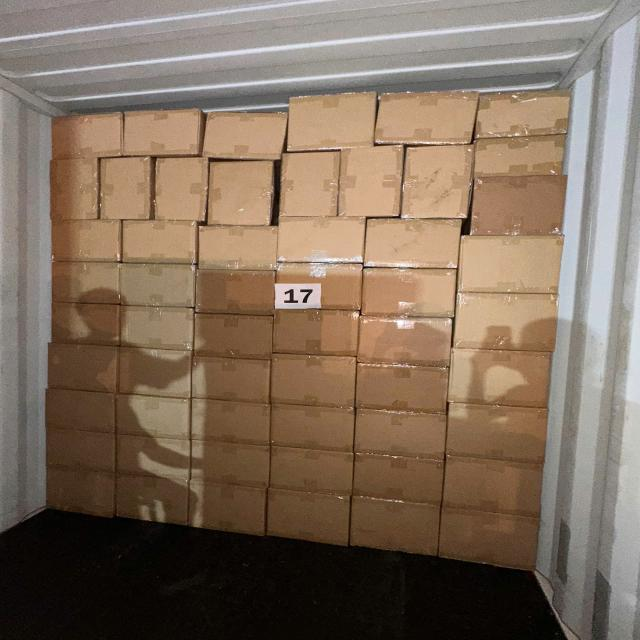Carton: (473, 134, 571, 233), (354, 480, 445, 564), (437, 503, 544, 574), (190, 442, 270, 536), (440, 453, 545, 520), (114, 438, 193, 525), (453, 294, 559, 356), (458, 235, 564, 296), (449, 344, 553, 405), (443, 404, 546, 464), (376, 91, 477, 149), (402, 145, 473, 221), (287, 94, 375, 154), (265, 486, 350, 548), (363, 216, 459, 268), (359, 268, 455, 320), (471, 135, 567, 186), (480, 92, 574, 144), (338, 144, 402, 219), (354, 361, 450, 411), (355, 319, 452, 368), (355, 410, 450, 460), (208, 161, 276, 229), (270, 352, 356, 405), (350, 454, 442, 503), (276, 262, 366, 312), (202, 111, 285, 163), (278, 214, 366, 263), (269, 448, 353, 498), (44, 464, 118, 520), (281, 154, 342, 221), (187, 442, 268, 492), (272, 404, 358, 451), (273, 312, 360, 358), (122, 108, 200, 158), (118, 347, 194, 398), (197, 223, 279, 270), (152, 158, 208, 226), (195, 269, 277, 315), (44, 386, 118, 436), (44, 425, 118, 475), (115, 433, 192, 481), (194, 314, 274, 359), (192, 400, 272, 445), (118, 262, 196, 308), (100, 157, 154, 223), (116, 394, 193, 440), (47, 343, 119, 392), (122, 218, 200, 263), (193, 357, 272, 401), (120, 309, 196, 353), (50, 113, 121, 160), (49, 217, 120, 261), (51, 304, 121, 348), (50, 160, 99, 222), (49, 264, 119, 306)
